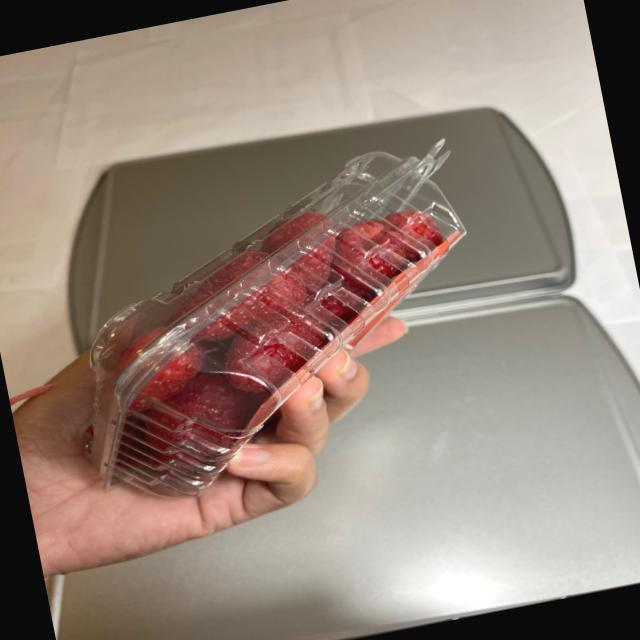raspberries: (76, 172, 486, 478)
